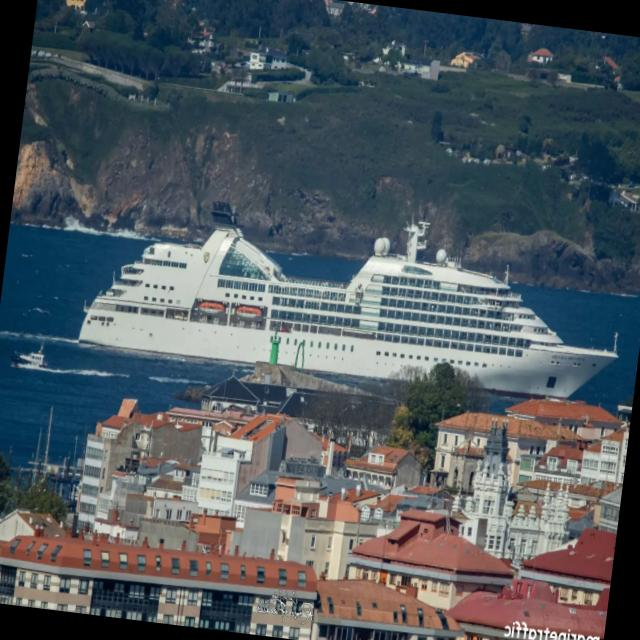Cruise: (79, 201, 617, 396)
Tug: (12, 342, 44, 367)
